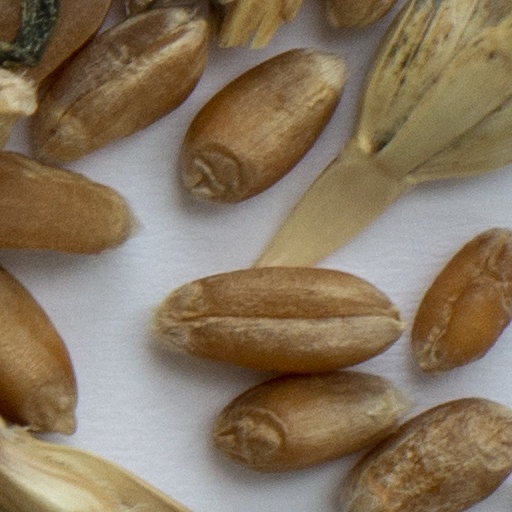Peel-poly: (0, 420, 188, 511)
